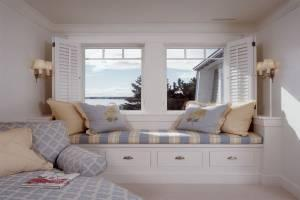window: (79, 42, 230, 114)
